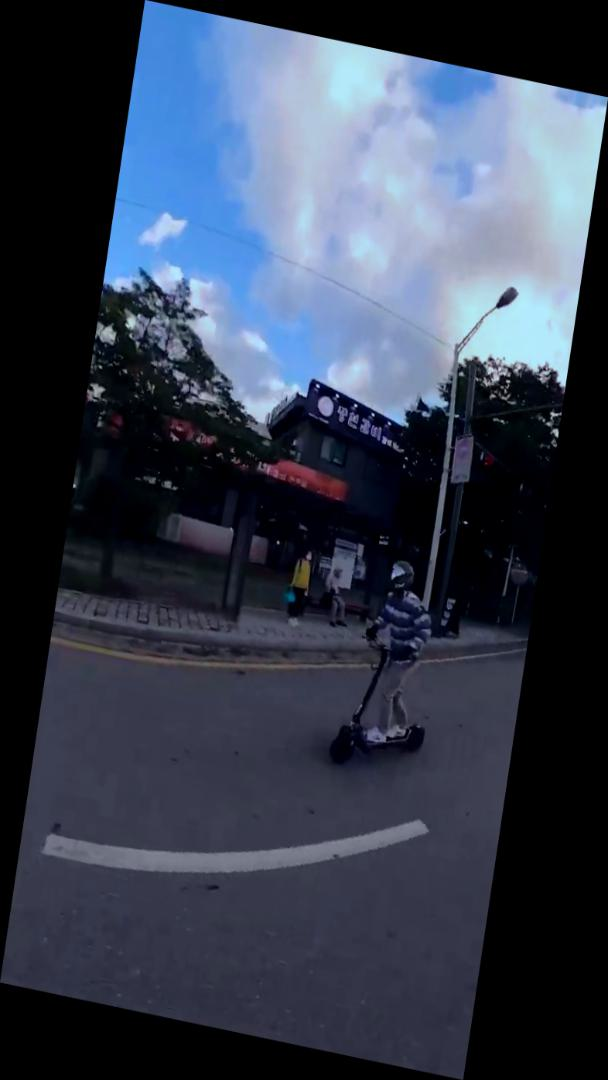helmet: (326, 549, 452, 781)
